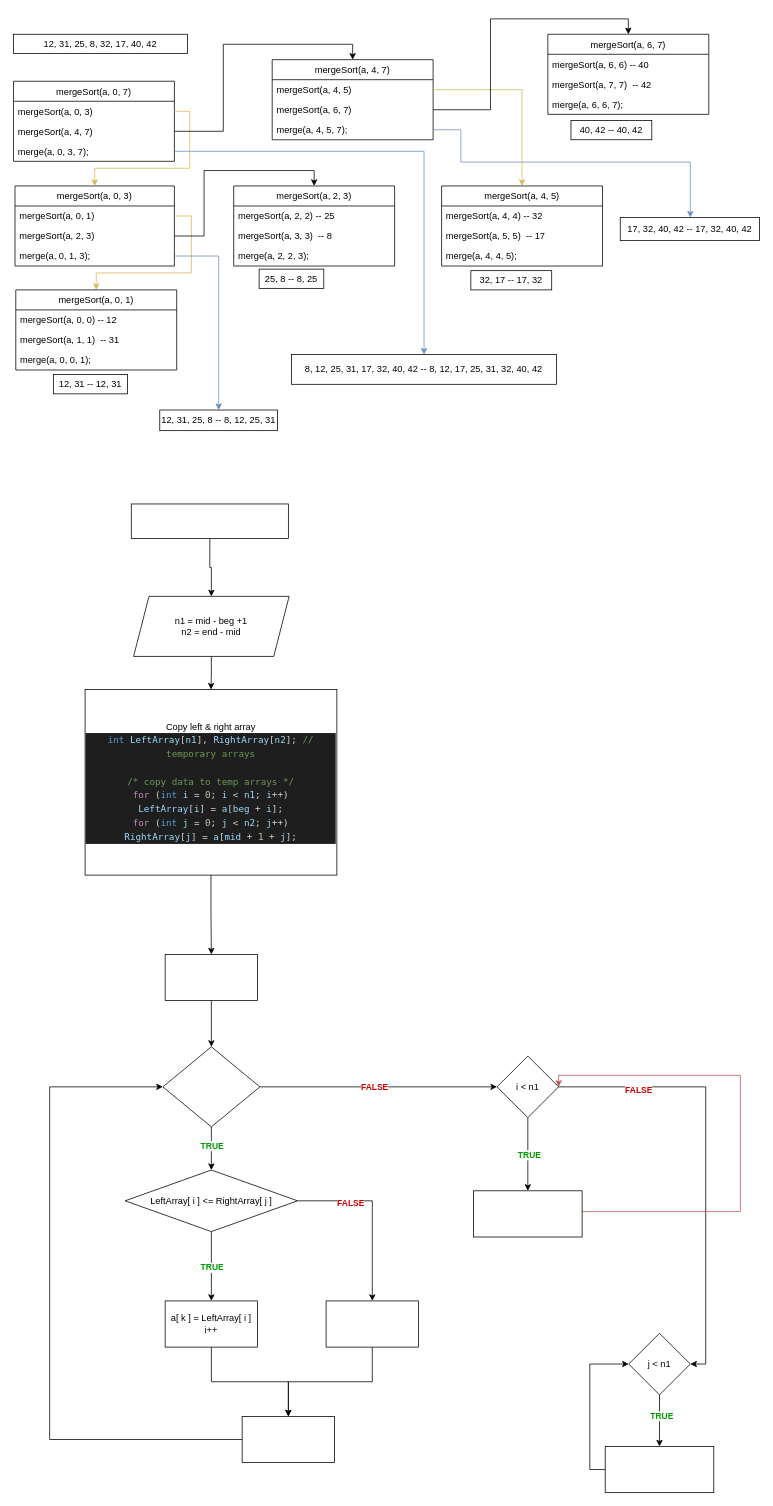
The diagram is 773 pixels wide and 1506 high, and some of its shapes have lost their labels. Each missing label, with the centre of its shape:
a[ k ] = LeftArray[ i ] i++ k++: point (527, 1213)
a[ k ] = RightArray[ j ] j++: point (371, 1323)
a[ k ] = RightArray[ j ] j++ k++: point (659, 1469)
i < n2 && j < n2: point (211, 1086)
i = 0; j = 0; k = beg: point (211, 977)
k++: point (288, 1439)
merge(a, beg, mid, end): point (209, 521)
